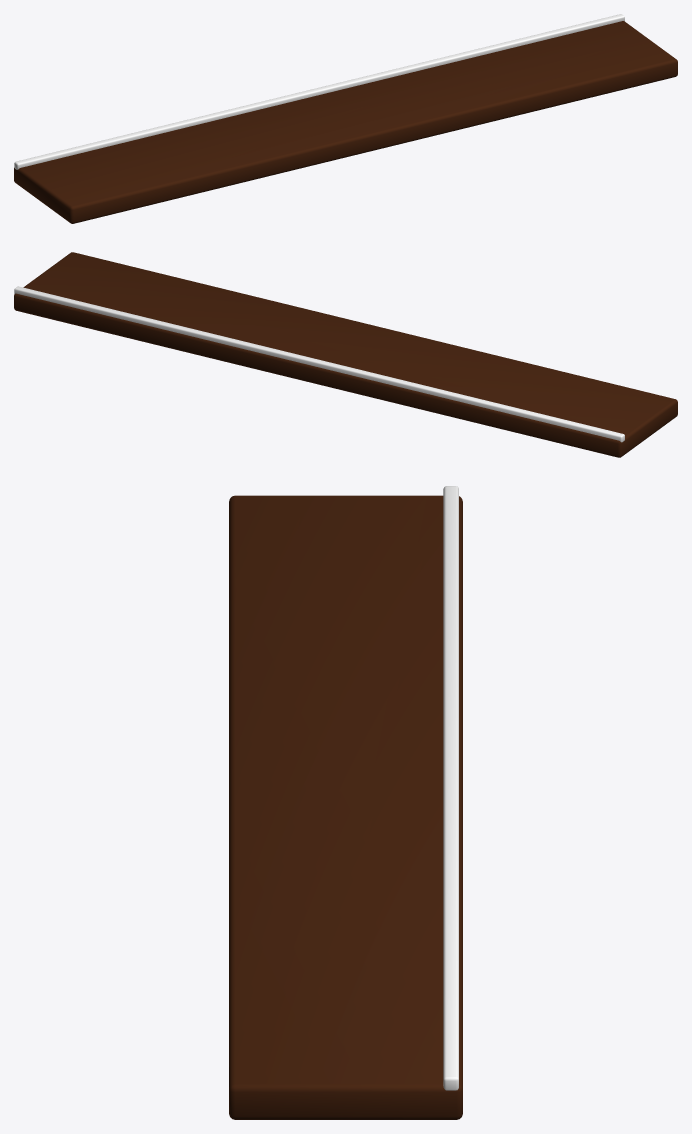
Rendered from wooden-floorboard.obj.
The picture shows the model from 3 angles, top to bottom: view 1: azimuth 30°, elevation 25°; view 2: azimuth 150°, elevation 25°; view 3: azimuth 270°, elevation 25°; orthographic projection. The views are drawn at different scales.
Visible parts, largest first — view 1: wooden-floorboard; view 2: wooden-floorboard; view 3: wooden-floorboard.
Part boxes in pixels (box(x1,y1,x2,y2)): wooden-floorboard: box(14, 14, 677, 223); wooden-floorboard: box(14, 252, 677, 457); wooden-floorboard: box(229, 486, 462, 1119).
Size of the model in its own units: 1.8 by 0.062 by 0.3.
